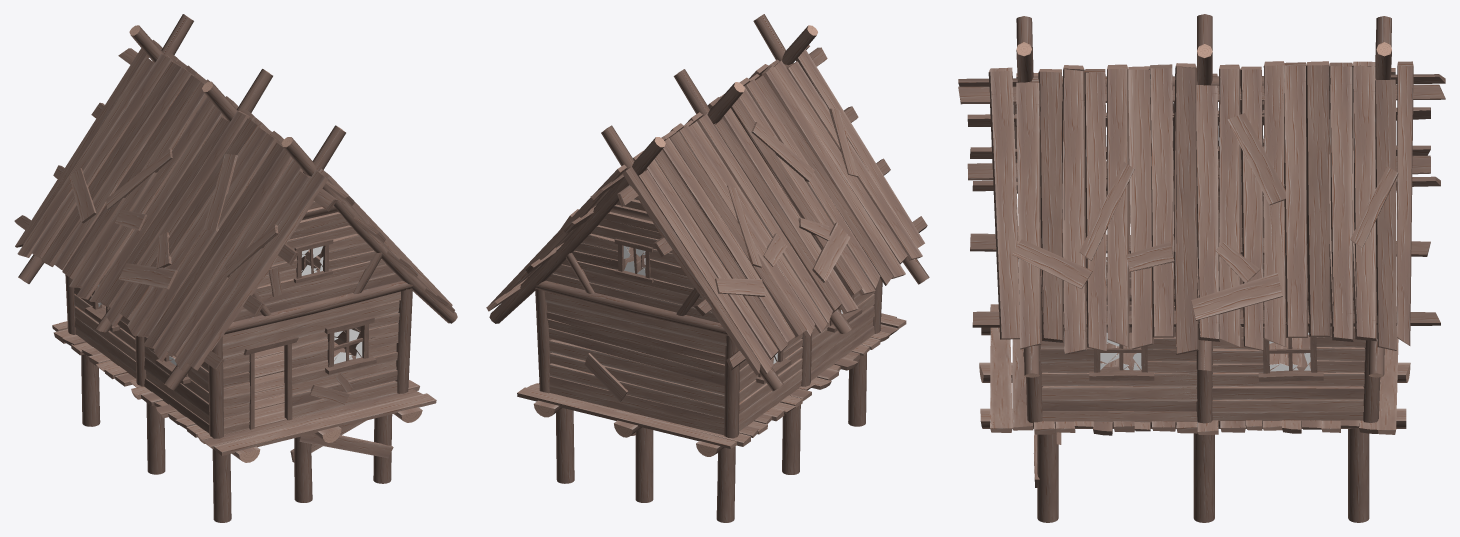
File: House.fbx
3 renders of one model, left to right at view 1: azimuth 30°, elevation 25°; view 2: azimuth 150°, elevation 25°; view 3: azimuth 270°, elevation 25°, orthographic. The views are drawn at different scales.
Visible parts, largest first — view 1: House_LOD0, House; view 2: House_LOD0, House; view 3: House_LOD0, House.
Part boxes in pixels (x1=…): House_LOD0: x1=14, y1=14, x2=457, y2=462; House: x1=15, y1=20, x2=454, y2=522; House_LOD0: x1=488, y1=14, x2=929, y2=456; House: x1=486, y1=16, x2=920, y2=522; House_LOD0: x1=958, y1=14, x2=1445, y2=479; House: x1=958, y1=17, x2=1444, y2=522.
Size of what is drawn, in the model's own units: 906 by 1116 by 1110.
